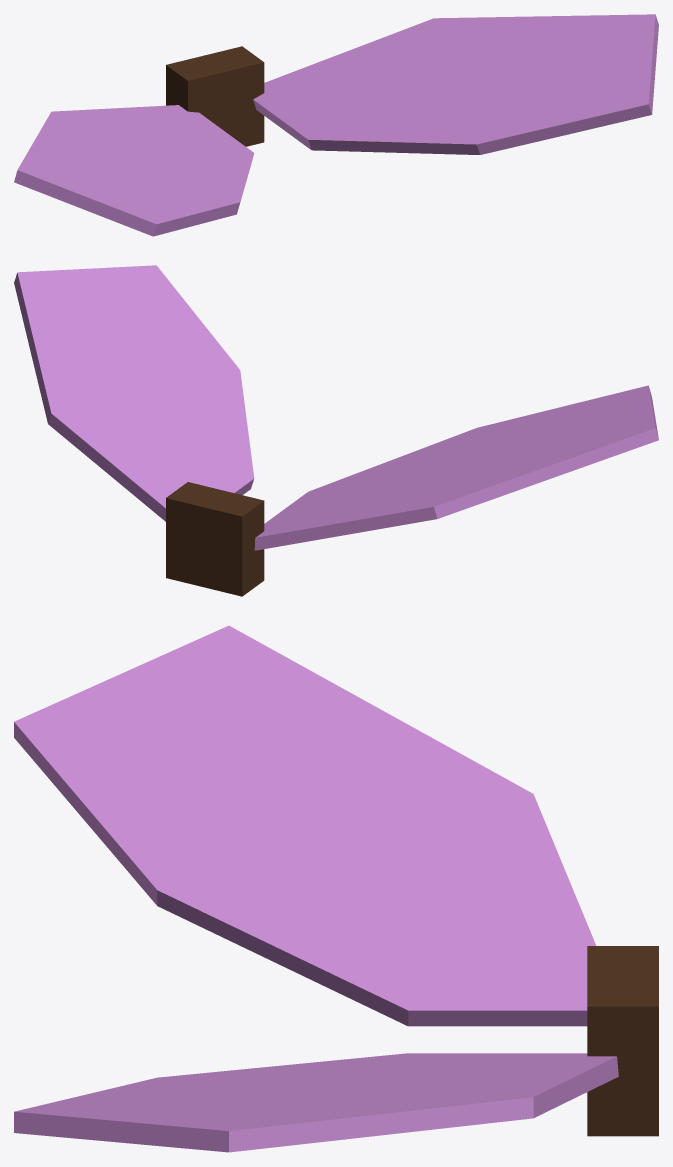
Rendered from fairy_wings.glb.
3 renders of one model, top to bottom at view 1: azimuth 30°, elevation 25°; view 2: azimuth 150°, elevation 25°; view 3: azimuth 270°, elevation 25°, orthographic. The views are drawn at different scales.
Visible parts, largest first — view 1: fairy_wings_v0; view 2: fairy_wings_v0; view 3: fairy_wings_v0.
Part boxes in pixels (x1,y1,x2,y2): fairy_wings_v0: (14,14,658,236); fairy_wings_v0: (14,265,658,596); fairy_wings_v0: (14,625,658,1152).
Size of the model in its own units: 0.675 by 0.1403 by 0.36.
